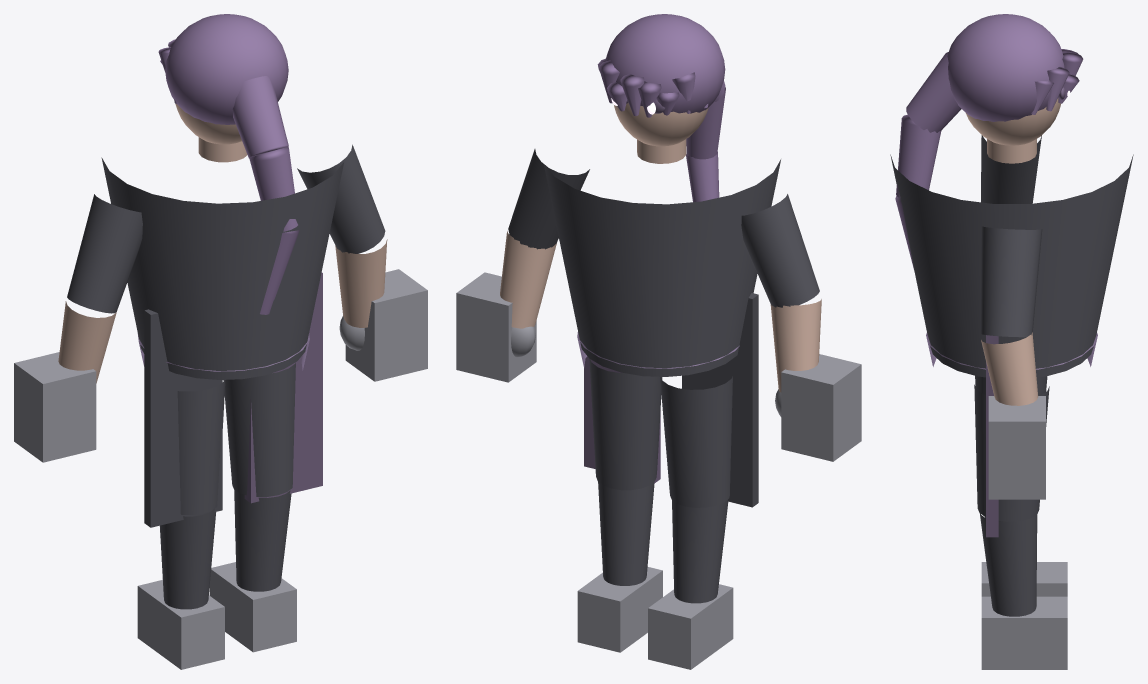
The model's file is lami-procedural-v1.glb.
The picture shows the model from 3 angles, left to right: view 1: azimuth 30°, elevation 25°; view 2: azimuth 150°, elevation 25°; view 3: azimuth 270°, elevation 25°; orthographic projection. The views are drawn at different scales.
Parts seen in each view (by area): view 1: Outfit_Torso, Hair_Cap, Weapon_Gauntlet_L, Outfit_CoatTail_L, Body_Thigh_R, Weapon_Gauntlet_R, Body_UpperArm_L, Outfit_Boot_L, Outfit_CoatTail_R, Body_Thigh_L, Outfit_Boot_R, Body_Shin_R (+9 smaller); view 2: Outfit_Torso, Body_Thigh_L, Body_Thigh_R, Hair_Cap, Weapon_Gauntlet_L, Outfit_CoatTail_L, Weapon_Gauntlet_R, Body_UpperArm_L, Outfit_Boot_L, Outfit_Boot_R, Body_Shin_R, Body_Shin_L (+10 smaller); view 3: Outfit_Torso, Hair_Cap, Body_UpperArm_R, Weapon_Gauntlet_R, Outfit_Boot_R, Body_Shin_R, Body_Forearm_R, Body_UpperArm_L, Hair_Ponytail_0, Body_Thigh_R, Hair_Ponytail_1, Body_Head (+5 smaller).
Part boxes in pixels (bbox=[...]): Outfit_Torso: bbox=[101, 157, 343, 379]; Hair_Cap: bbox=[165, 14, 288, 124]; Weapon_Gauntlet_L: bbox=[14, 352, 96, 462]; Outfit_CoatTail_L: bbox=[144, 309, 222, 527]; Body_Thigh_R: bbox=[223, 362, 295, 496]; Weapon_Gauntlet_R: bbox=[345, 269, 427, 381]; Body_UpperArm_L: bbox=[67, 194, 142, 313]; Outfit_Boot_L: bbox=[137, 580, 224, 669]; Outfit_CoatTail_R: bbox=[244, 272, 322, 503]; Body_Thigh_L: bbox=[177, 380, 225, 514]; Outfit_Boot_R: bbox=[209, 562, 296, 652]; Body_Shin_R: bbox=[234, 490, 291, 591]; Outfit_Torso: bbox=[543, 159, 780, 376]; Body_Thigh_L: bbox=[660, 376, 732, 507]; Body_Thigh_R: bbox=[589, 358, 662, 490]; Hair_Cap: bbox=[606, 14, 725, 113]; Weapon_Gauntlet_L: bbox=[781, 354, 861, 461]; Outfit_CoatTail_L: bbox=[682, 293, 758, 507]; Weapon_Gauntlet_R: bbox=[456, 272, 536, 382]; Body_UpperArm_L: bbox=[741, 194, 819, 307]; Outfit_Boot_L: bbox=[648, 584, 733, 669]; Outfit_Boot_R: bbox=[577, 567, 662, 652]; Body_Shin_R: bbox=[598, 482, 654, 585]; Body_Shin_L: bbox=[672, 499, 728, 603]; Outfit_Torso: bbox=[890, 154, 1133, 377]; Hair_Cap: bbox=[947, 14, 1064, 121]; Body_UpperArm_R: bbox=[981, 226, 1042, 337]; Weapon_Gauntlet_R: bbox=[988, 396, 1045, 499]; Outfit_Boot_R: bbox=[981, 596, 1067, 669]; Body_Shin_R: bbox=[979, 513, 1037, 616]; Body_Forearm_R: bbox=[981, 332, 1038, 405]; Body_UpperArm_L: bbox=[981, 135, 1041, 203]; Hair_Ponytail_0: bbox=[906, 52, 961, 132]; Body_Thigh_R: bbox=[974, 384, 1049, 521]; Hair_Ponytail_1: bbox=[896, 114, 941, 198]; Body_Head: bbox=[965, 98, 1060, 145].
Size of the model in its own units: 1.23 by 1.91 by 0.68.
